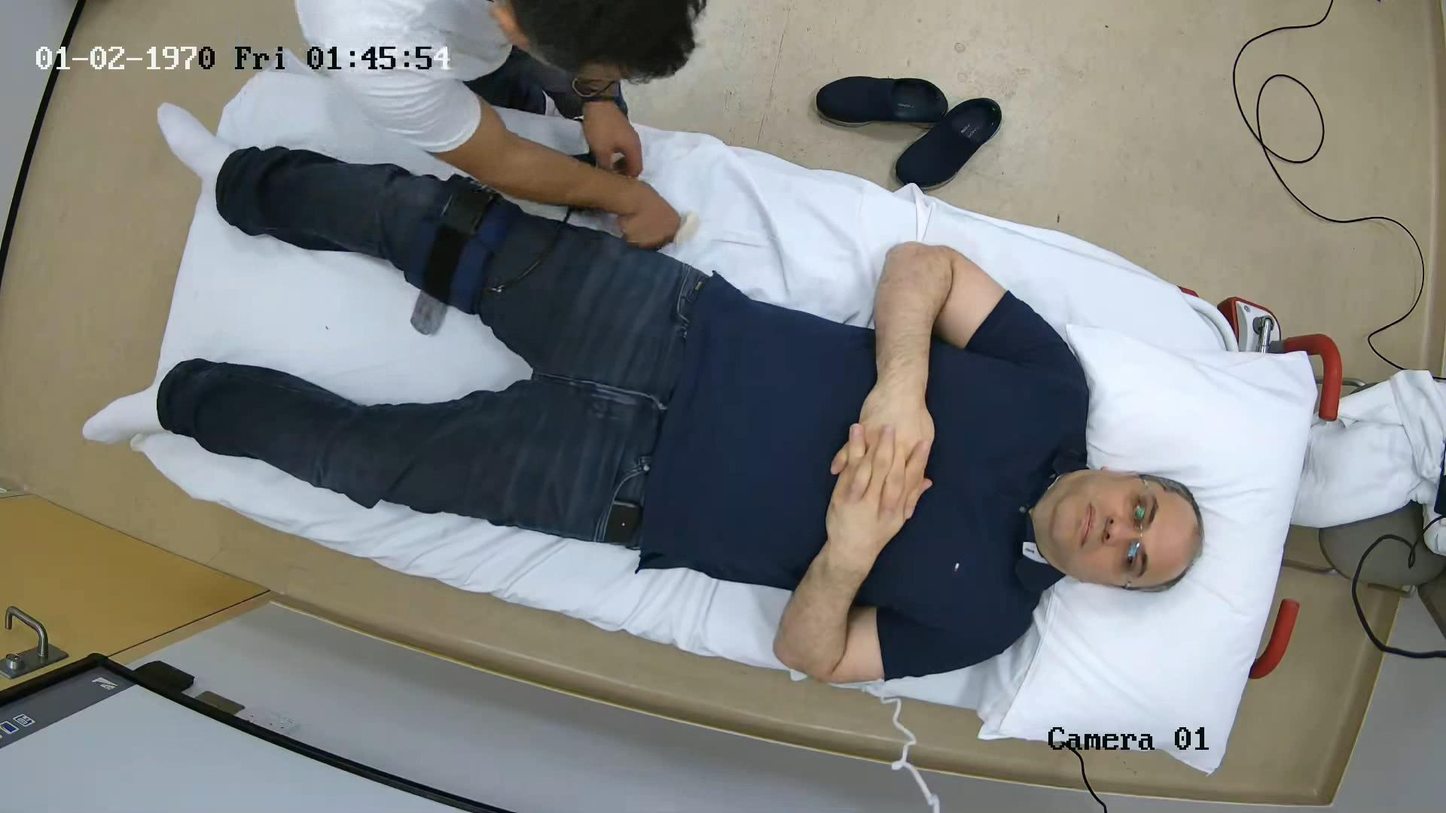bed: (134, 61, 1341, 772)
patient: (158, 148, 1201, 682)
prepstick: (673, 212, 700, 245)
tourniquet: (400, 179, 528, 314)
